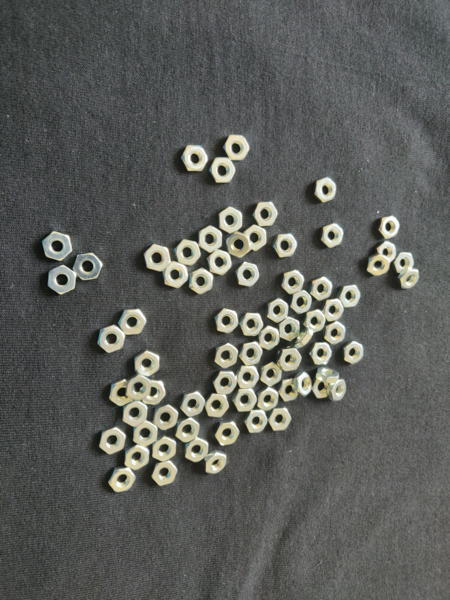nut: (42, 231, 73, 261), (48, 266, 77, 295), (73, 253, 103, 280), (99, 427, 127, 455), (98, 325, 126, 353), (162, 261, 189, 289), (144, 244, 171, 272), (109, 379, 136, 407), (119, 309, 147, 335), (182, 145, 209, 171), (226, 232, 252, 259), (175, 239, 201, 266), (153, 404, 179, 431), (152, 460, 178, 487), (134, 420, 159, 448), (135, 350, 160, 378), (224, 135, 250, 161), (210, 157, 236, 183), (207, 250, 233, 276), (189, 268, 214, 295), (109, 468, 136, 493), (140, 381, 167, 406), (123, 401, 148, 428), (127, 374, 151, 402), (215, 420, 240, 446), (125, 445, 150, 471), (181, 390, 205, 417), (200, 225, 223, 253), (254, 202, 279, 227), (239, 312, 264, 337), (215, 308, 239, 334), (215, 343, 239, 369), (152, 436, 176, 462), (244, 225, 267, 252), (273, 234, 298, 258), (282, 270, 306, 295), (236, 262, 260, 287), (176, 418, 200, 443), (185, 438, 209, 463), (267, 298, 290, 324), (243, 410, 269, 433), (315, 176, 337, 203), (220, 207, 242, 234), (278, 348, 302, 372), (239, 342, 263, 366), (236, 366, 260, 390), (213, 371, 237, 395), (205, 394, 229, 418), (337, 285, 362, 308), (233, 389, 258, 412), (204, 450, 227, 475), (261, 361, 283, 387), (310, 277, 333, 301), (268, 408, 292, 431), (322, 224, 344, 249), (257, 388, 280, 411), (379, 215, 401, 239), (324, 321, 346, 345), (304, 309, 326, 333), (309, 343, 333, 365), (291, 291, 313, 315), (259, 326, 280, 351), (368, 254, 391, 276), (323, 298, 344, 322), (343, 342, 364, 366), (280, 317, 300, 342), (278, 378, 298, 402), (294, 372, 313, 397), (394, 252, 415, 274), (398, 269, 421, 289), (327, 379, 347, 402), (377, 242, 397, 263), (294, 328, 314, 349), (312, 378, 330, 399), (316, 368, 340, 383)
